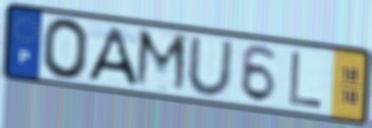6: (237, 43, 279, 104)
A: (84, 24, 140, 88)
L: (287, 50, 325, 111)
M: (131, 26, 190, 97)
O: (40, 16, 91, 82)
U: (185, 35, 236, 99)
